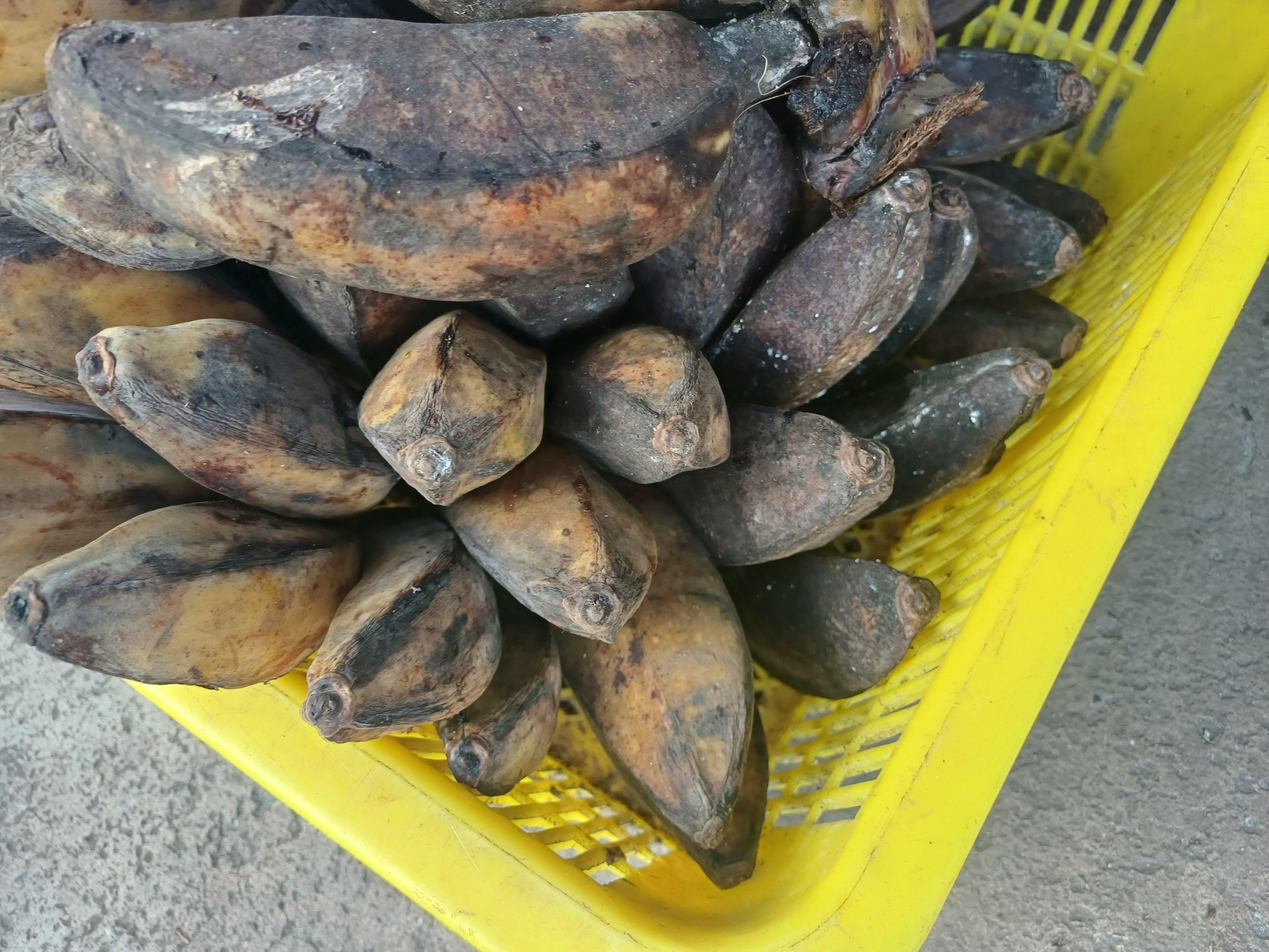overripe: (478, 101, 1053, 701), (0, 0, 741, 297), (904, 2, 1113, 362)
ripe: (0, 309, 774, 895)
